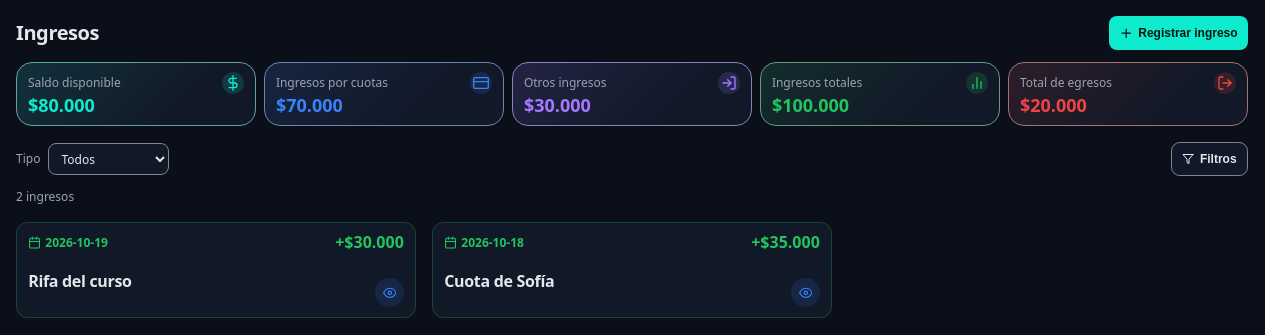
it: IncomesPage › shows fees and other income together, with a selector filtering the shared list
Expected: the heading "Rifa del curso" is shown, 28,270 -> 132,292
Expected: the heading "Cuota de Sofía" is shown, 444,270 -> 554,292
Step 1. Select "Cuotas" in the dropdown named "Tipo de ingreso" → {"x": 109, "y": 159}, box 48,143 -> 169,175
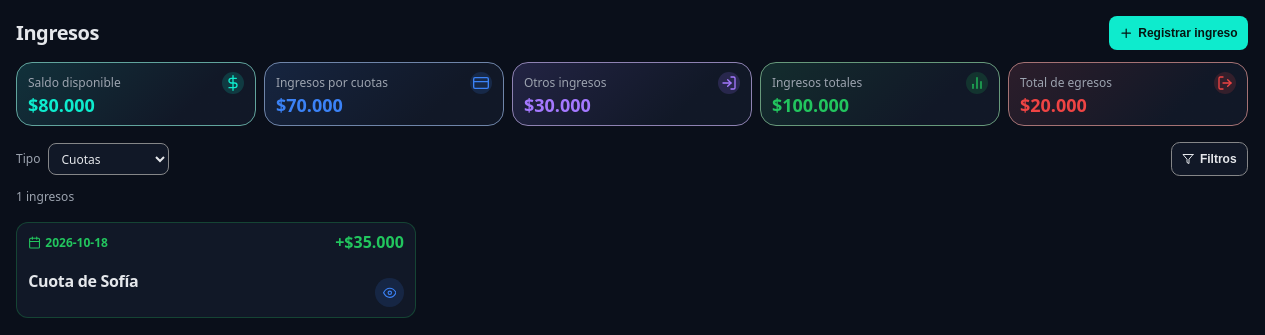
Expected: the heading "Cuota de Sofía" is shown, 28,270 -> 138,292
Result: the heading "Rifa del curso" is gone
Step 2. Select "Otros ingresos" in the dropdown named "Tipo de ingreso" → {"x": 109, "y": 159}, box 48,143 -> 169,175
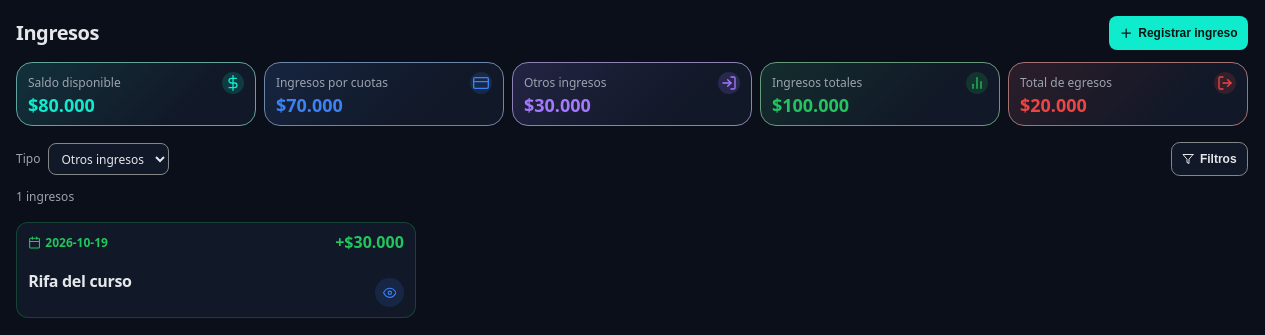
Result: the heading "Rifa del curso" is shown at 28,270 -> 132,292
Result: the heading "Cuota de Sofía" is gone
